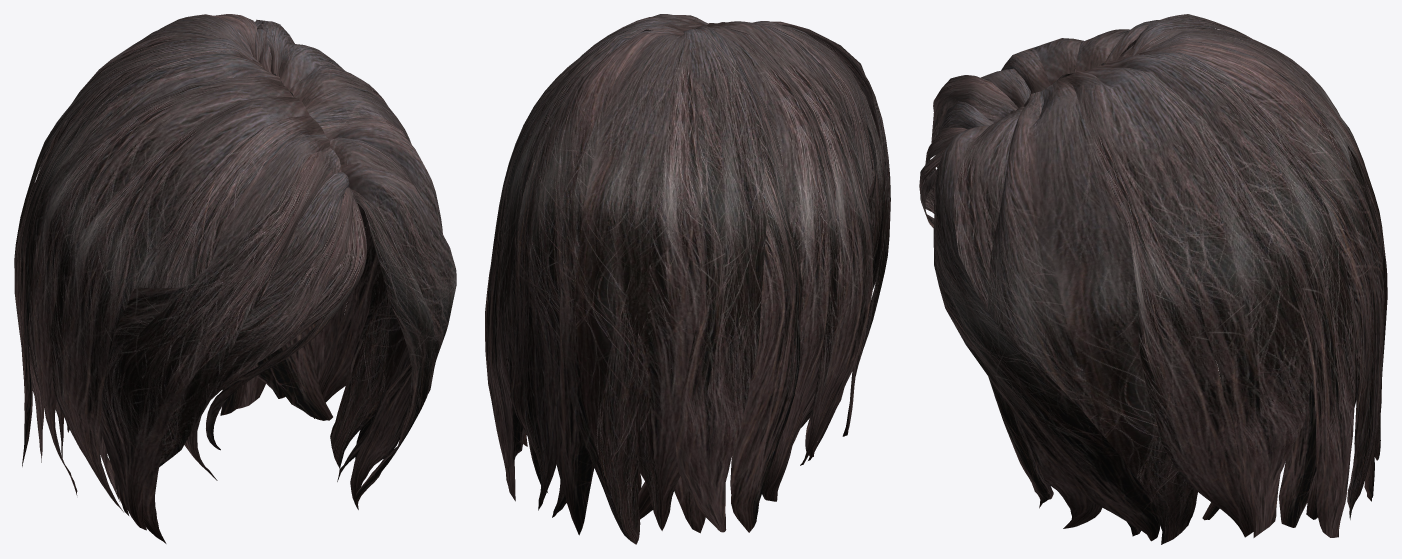
File: camillehair.fbx
3 renders of one model, left to right at view 1: azimuth 30°, elevation 25°; view 2: azimuth 150°, elevation 25°; view 3: azimuth 270°, elevation 25°, orthographic. The views are drawn at different scales.
Parts seen in each view (by area): view 1: h_wig; view 2: h_wig; view 3: h_wig.
Part boxes in pixels (x1,y1,x2,y2): h_wig: (14, 14, 456, 543); h_wig: (485, 14, 890, 544); h_wig: (919, 14, 1387, 544).
Size of the model in its own units: 20.32 by 26.88 by 24.51.
